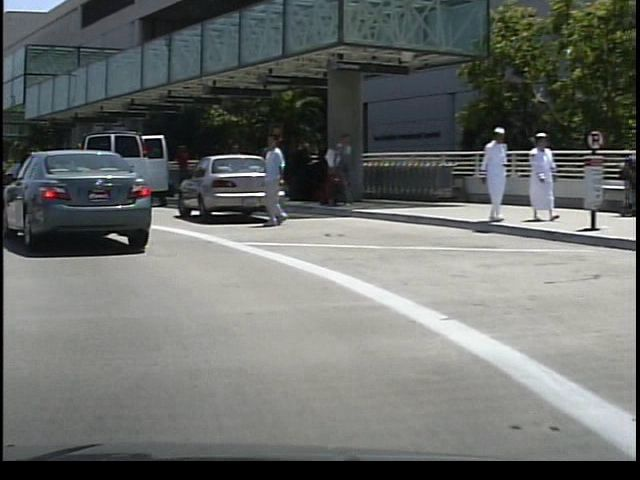person: (252, 129, 289, 231), (473, 124, 507, 225), (517, 129, 552, 221), (322, 129, 352, 210), (168, 140, 191, 205)
